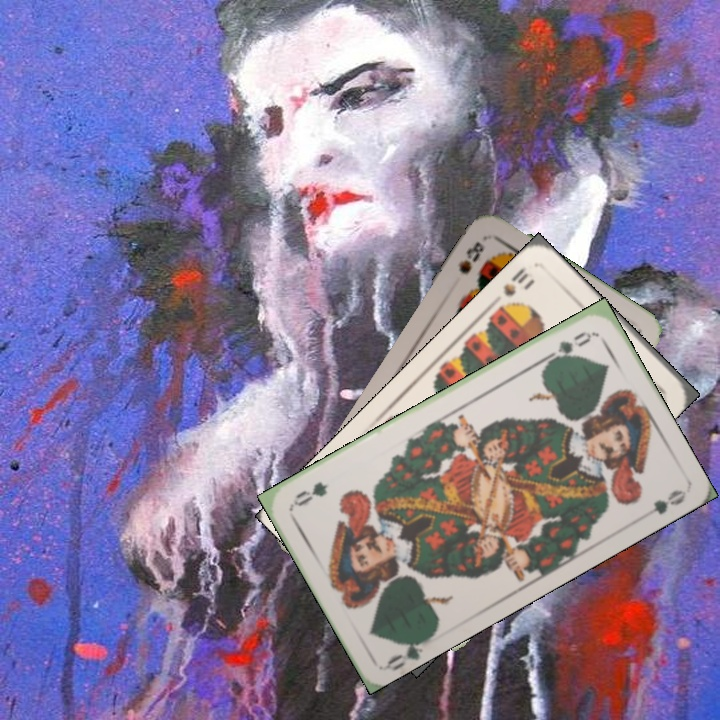GO: (541, 327, 596, 368), (382, 632, 434, 673)
S10: (494, 264, 531, 313)
S8: (454, 237, 487, 277)
